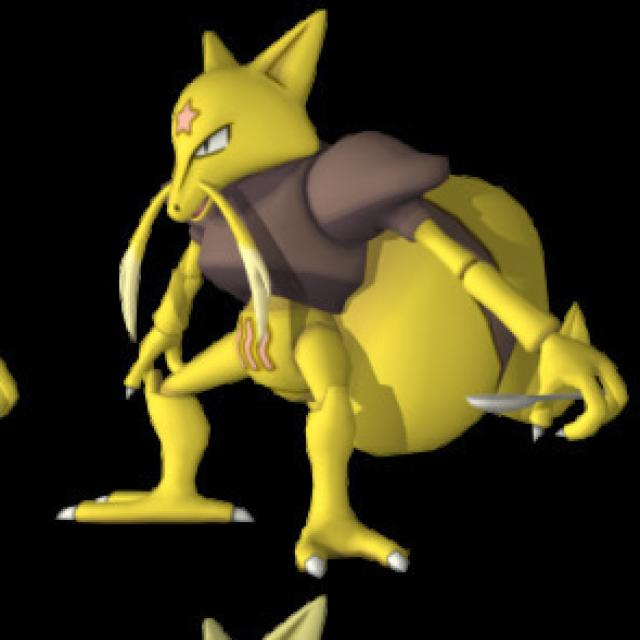Kadabra: (120, 18, 522, 564)
